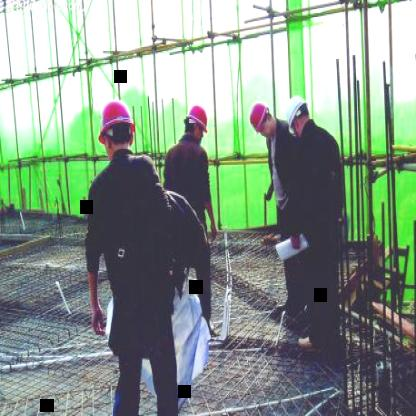helmet: (96, 96, 136, 164), (284, 95, 314, 138), (248, 103, 280, 139), (184, 101, 208, 142)
